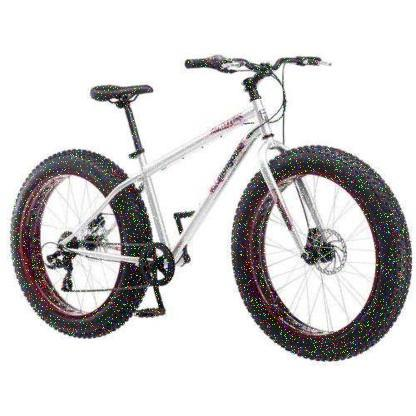Bicycle: (0, 3, 414, 318)
